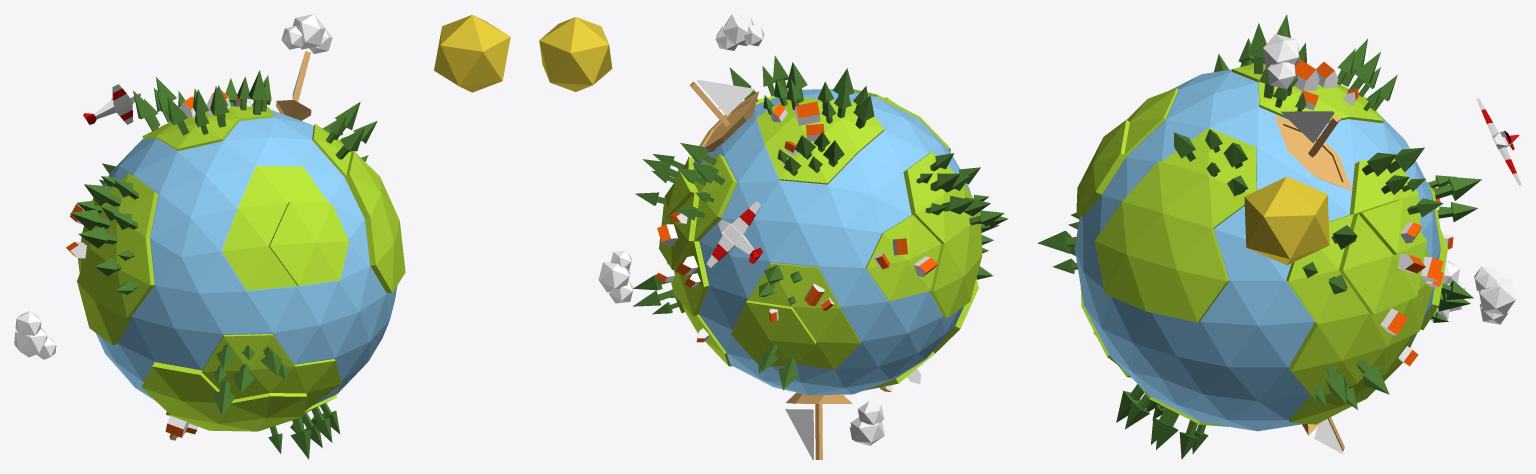
The model's file is world01.glb.
3 renders of one model, left to right at view 1: azimuth 30°, elevation 25°; view 2: azimuth 150°, elevation 25°; view 3: azimuth 270°, elevation 25°, orthographic. The views are drawn at different scales.
Parts seen in each view (by area): view 1: Icosphere.001, Icosphere, Icosphere.002, Icosphere.004, Icosphere.009, Plane.003, Plane.002; view 2: Icosphere.001, Icosphere, Icosphere.002, Plane.002, Plane.096, Plane.003, Icosphere.007, Icosphere.004, Icosphere.009, Plane.079; view 3: Icosphere, Icosphere.001, Icosphere.002, Plane.002, Icosphere.007, Icosphere.004, Plane.003, Plane.096, Plane.031, Plane.079, Plane.019, Plane.027 (+5 smaller).
Boxes of the visible parts, x1,y1,x2,y2 form: Icosphere.001: (96, 109, 397, 405); Icosphere: (77, 106, 405, 431); Icosphere.002: (434, 15, 510, 92); Icosphere.004: (281, 14, 332, 53); Icosphere.009: (14, 311, 56, 359); Plane.003: (83, 83, 140, 124); Plane.002: (276, 51, 311, 120); Icosphere.001: (694, 89, 970, 395); Icosphere: (659, 89, 982, 390); Icosphere.002: (539, 17, 612, 91); Plane.002: (689, 80, 758, 152); Plane.096: (785, 392, 852, 459); Plane.003: (706, 201, 762, 267); Icosphere.007: (598, 250, 633, 303); Icosphere.004: (715, 14, 764, 50); Icosphere.009: (849, 401, 884, 445); Plane.079: (794, 101, 820, 125); Icosphere: (1076, 63, 1447, 426); Icosphere.001: (1074, 69, 1440, 431); Icosphere.002: (1244, 176, 1329, 265); Plane.002: (1274, 111, 1352, 190); Icosphere.007: (1474, 266, 1515, 324); Icosphere.004: (1263, 34, 1299, 89); Plane.003: (1476, 98, 1521, 185); Plane.096: (1302, 417, 1344, 453); Plane.031: (1433, 176, 1481, 200); Plane.079: (1294, 59, 1319, 91); Plane.019: (1356, 359, 1389, 394); Plane.027: (1247, 23, 1266, 74).
Bounding box in the file's own units: 3.38 × 3.02 × 2.79.
